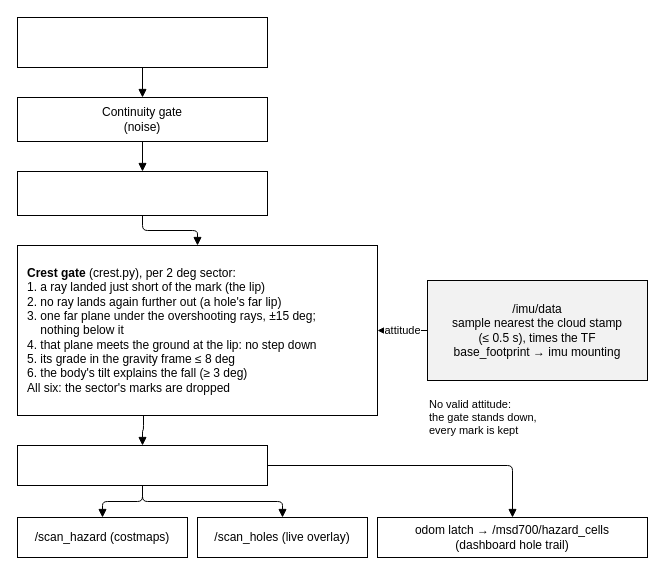
The diagram is 665 pixels wide and 575 high, and some of its shapes have lost their labels. The centre of each missing label's shape, as x and y in pixels:
"descent_run (gentle real descents)" goes at (142,193).
"Dilate, min_bins_run" goes at (142,465).
"Overshoot marks negative.detect" goes at (142,42).
